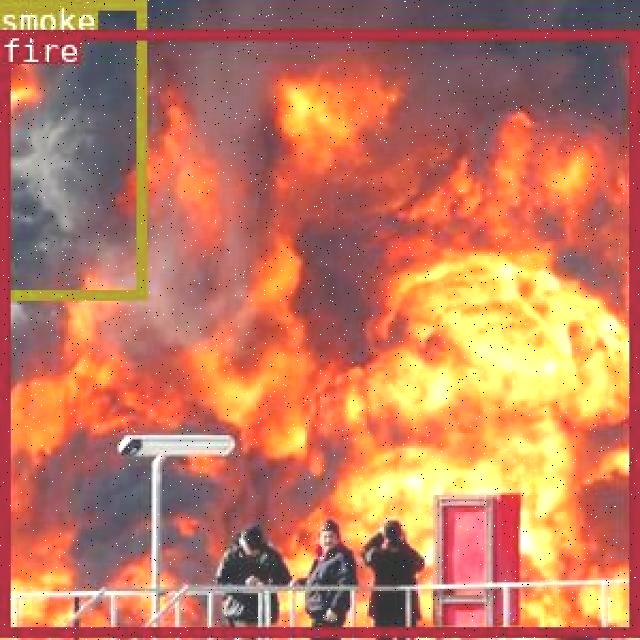fire: (0, 27, 636, 634)
smoke: (0, 0, 143, 297)
